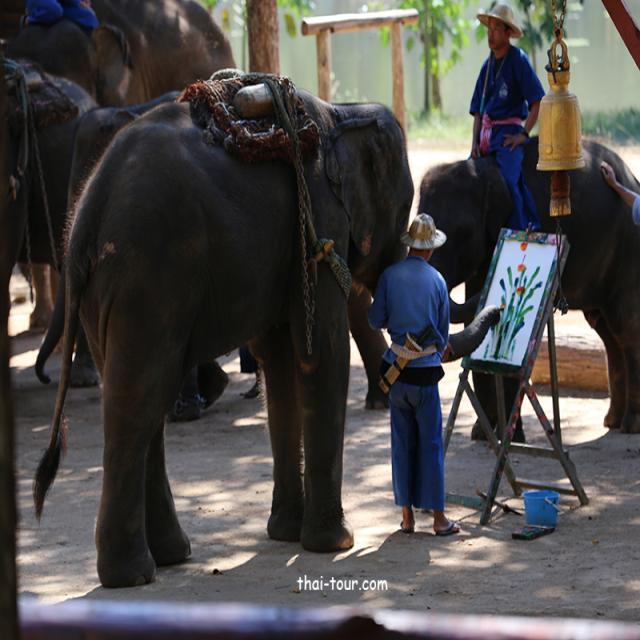Elephant: (47, 44, 420, 629), (415, 128, 640, 450)
